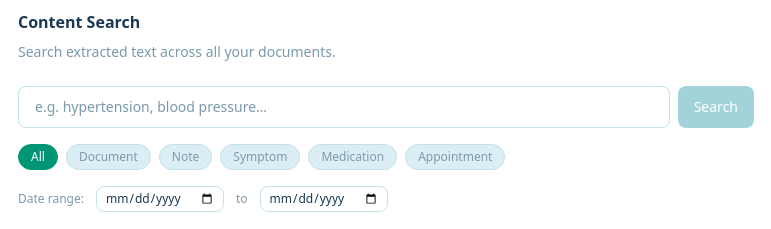
Test: ContentSearchPage › search button enabled when input has text
Type "hypertension" into the search field with test id "content-search-input" at [344, 107], box [18,86,670,128]
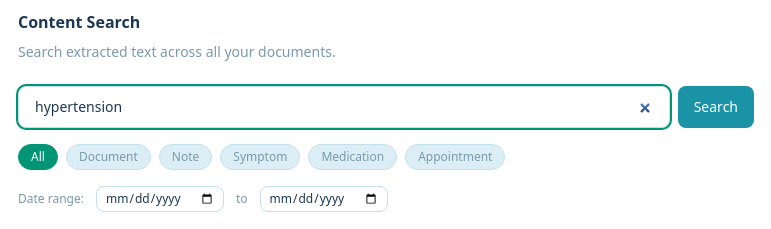
Expected: the button "Search" is enabled, [678,86,754,128]
